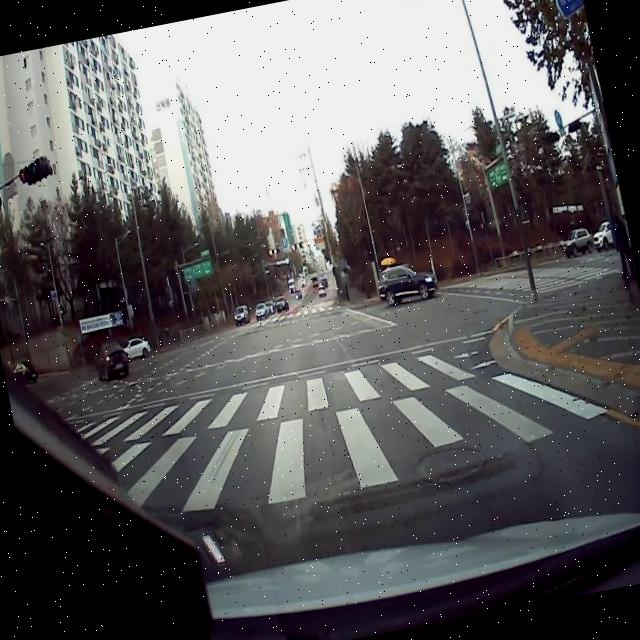crosswalk: (67, 342, 610, 509), (441, 267, 624, 295), (220, 301, 343, 336)
